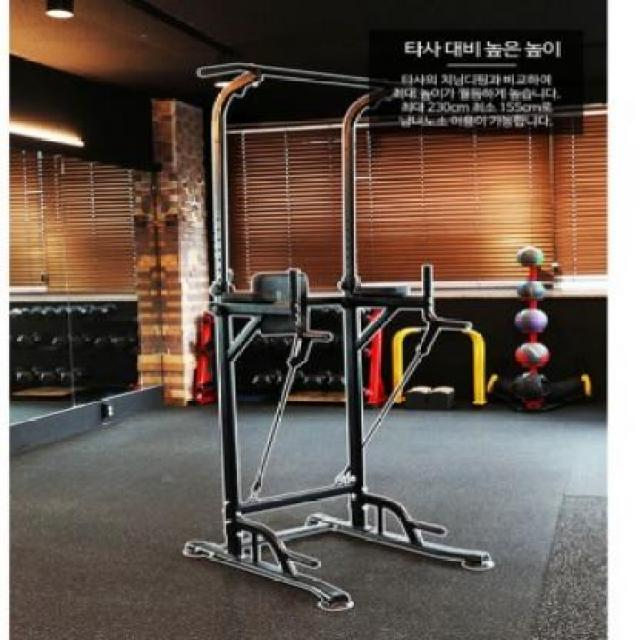chinning dipping: (182, 64, 500, 610)
